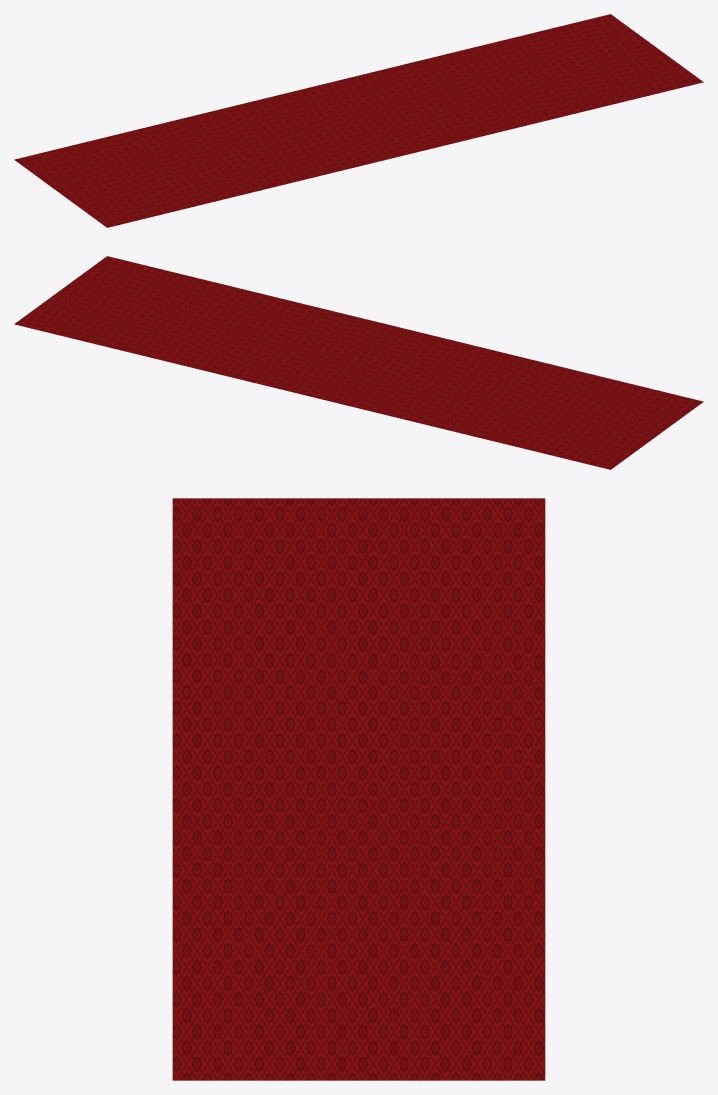
Rendered from Floor.fbx.
3 views of the same model, one above another, from view 1: azimuth 30°, elevation 25°; view 2: azimuth 150°, elevation 25°; view 3: azimuth 270°, elevation 25° (orthographic). The views are drawn at different scales.
Visible parts, largest first — view 1: Plane.599; view 2: Plane.599; view 3: Plane.599.
Boxes of the visible parts, left/top/right/bottom form: Plane.599: left=14, top=14, right=703, bottom=227; Plane.599: left=14, top=256, right=703, bottom=469; Plane.599: left=172, top=498, right=545, bottom=1080.
Size of the model in its own units: 13366 by 0.000589 by 3617.
